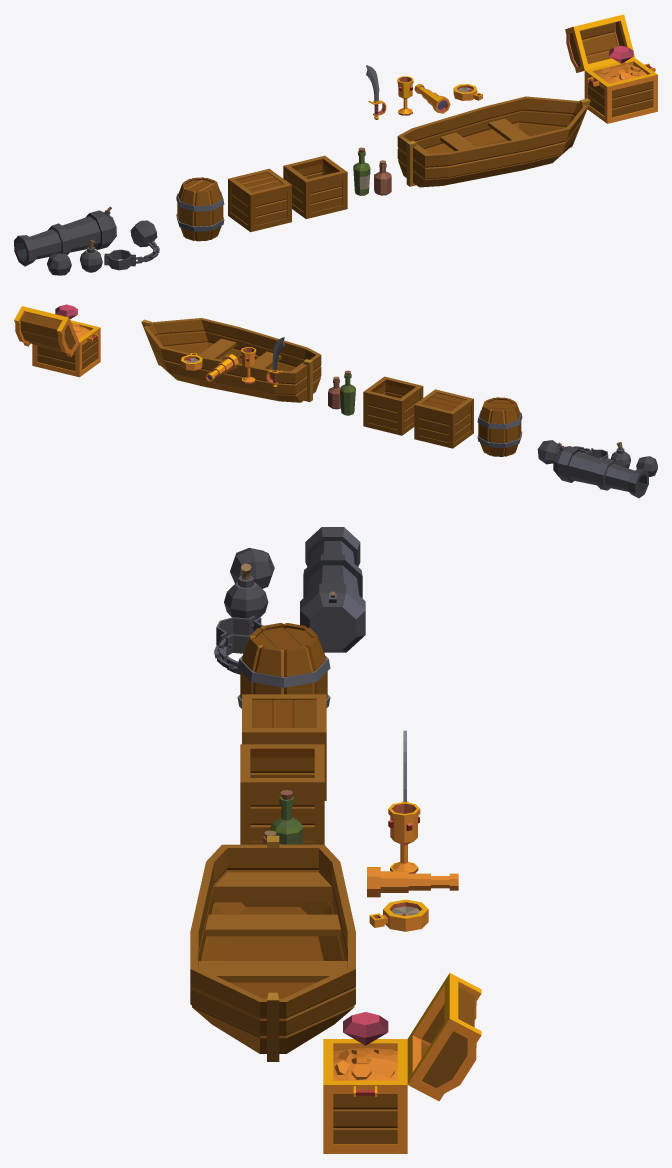
The model's file is Props_pirates.fbx.
3 views of the same model, one above another, from view 1: azimuth 30°, elevation 25°; view 2: azimuth 150°, elevation 25°; view 3: azimuth 270°, elevation 25° (orthographic). The views are drawn at different scales.
Parts seen in each view (by area): view 1: SM_DL_Lodka, SM_DL_Sunduk, SM_DL_Box, SM_DL_Box_open, SM_DL_Pushka, SM_DL_Bochka, SM_DL_Kandaly, SM_DL_Bottle_2, SM_DL_Truba, SM_DL_Bomba, SM_DL_Bottle_1, SM_DL_Kubok (+3 smaller); view 2: SM_DL_Lodka, SM_DL_Sunduk, SM_DL_Box, SM_DL_Pushka, SM_DL_Box_open, SM_DL_Bochka, SM_DL_Kandaly, SM_DL_Bottle_2, SM_DL_Truba, SM_DL_Kubok, SM_DL_Sablya, SM_DL_Bottle_1 (+3 smaller); view 3: SM_DL_Lodka, SM_DL_Sunduk, SM_DL_Box_open, SM_DL_Pushka, SM_DL_Bochka, SM_DL_Box, SM_DL_Truba, SM_DL_Kandaly, SM_DL_Kubok, SM_DL_Bomba, SM_DL_Kompas, SM_DL_Yadro (+2 smaller).
Boxes of the visible parts, x1,y1,x2,y2 form: SM_DL_Lodka: [397, 96, 590, 187]; SM_DL_Sunduk: [565, 14, 657, 123]; SM_DL_Box: [228, 168, 291, 232]; SM_DL_Box_open: [283, 155, 347, 218]; SM_DL_Pushka: [14, 206, 116, 266]; SM_DL_Bochka: [176, 177, 224, 241]; SM_DL_Kandaly: [104, 220, 159, 270]; SM_DL_Bottle_2: [353, 147, 370, 195]; SM_DL_Truba: [414, 83, 450, 113]; SM_DL_Bomba: [80, 240, 102, 272]; SM_DL_Bottle_1: [374, 160, 391, 195]; SM_DL_Kubok: [397, 76, 413, 115]; SM_DL_Lodka: [141, 318, 321, 402]; SM_DL_Sunduk: [14, 306, 100, 377]; SM_DL_Box: [414, 389, 473, 448]; SM_DL_Pushka: [553, 442, 649, 498]; SM_DL_Box_open: [363, 376, 423, 435]; SM_DL_Bochka: [477, 397, 522, 456]; SM_DL_Kandaly: [537, 440, 608, 464]; SM_DL_Bottle_2: [340, 370, 355, 415]; SM_DL_Truba: [205, 354, 238, 381]; SM_DL_Kubok: [240, 347, 256, 383]; SM_DL_Sablya: [266, 337, 284, 387]; SM_DL_Bottle_1: [328, 376, 340, 409]; SM_DL_Lodka: [190, 835, 355, 1061]; SM_DL_Sunduk: [323, 973, 481, 1153]; SM_DL_Box_open: [240, 744, 324, 844]; SM_DL_Pushka: [300, 527, 365, 652]; SM_DL_Bochka: [237, 623, 330, 708]; SM_DL_Box: [242, 694, 326, 800]; SM_DL_Truba: [367, 867, 458, 897]; SM_DL_Kandaly: [214, 615, 263, 674]; SM_DL_Kubok: [388, 802, 420, 873]; SM_DL_Bomba: [224, 563, 268, 619]; SM_DL_Kompas: [369, 899, 428, 931]; SM_DL_Yadro: [230, 548, 274, 588].
Bounding box in the file's own units: 10.1 × 1.46 × 2.13.
